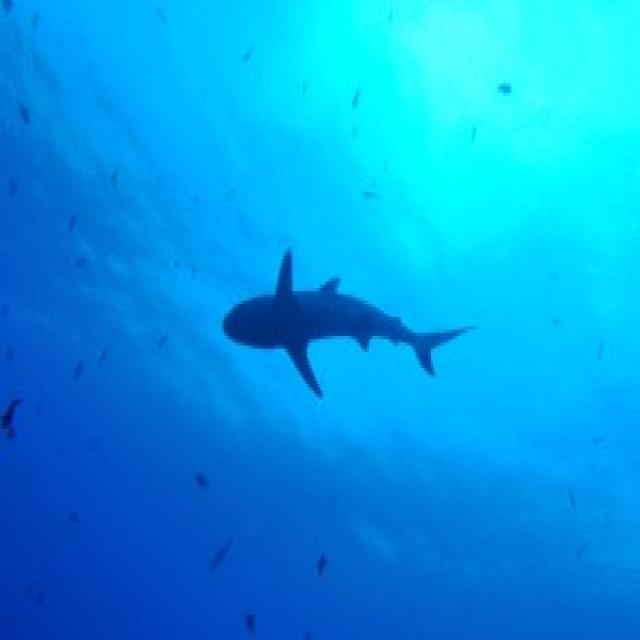Shark: (221, 243, 480, 425)
